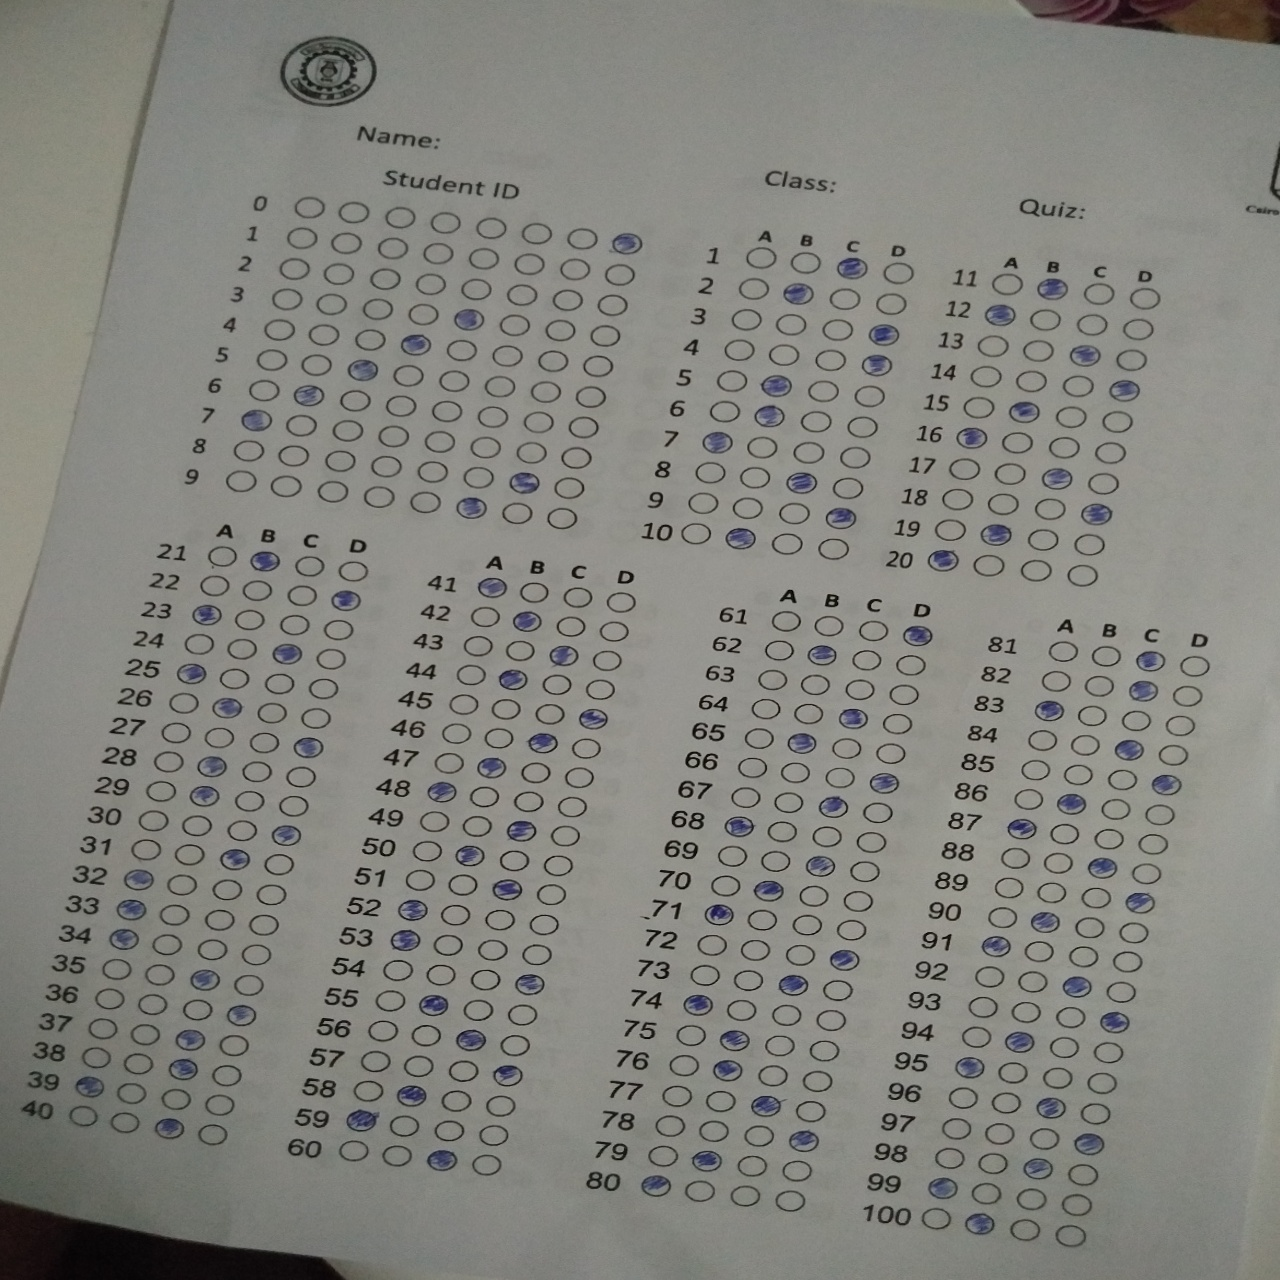not-c: (767, 1002, 808, 1028), (299, 350, 336, 377), (565, 413, 602, 440), (223, 467, 260, 493), (311, 644, 348, 670), (97, 956, 135, 983), (157, 1085, 195, 1112), (400, 1051, 437, 1078), (516, 760, 553, 787), (459, 813, 497, 840), (856, 617, 893, 644), (715, 842, 753, 869), (813, 1005, 851, 1032), (665, 1051, 702, 1078), (1141, 799, 1178, 826), (1024, 726, 1062, 753), (1089, 440, 1126, 467), (496, 312, 535, 338), (216, 666, 254, 692), (284, 583, 322, 608), (754, 1061, 792, 1087), (1126, 859, 1165, 885), (1122, 316, 1160, 342), (692, 459, 730, 485), (511, 248, 547, 275), (374, 234, 410, 261), (551, 474, 587, 501), (430, 930, 467, 956), (444, 692, 481, 719), (465, 602, 502, 629), (604, 588, 640, 615), (1067, 731, 1103, 758), (1017, 556, 1054, 583), (1064, 561, 1101, 588), (792, 440, 829, 467), (805, 377, 842, 404), (736, 275, 772, 302), (290, 193, 327, 219), (334, 199, 372, 225), (425, 209, 463, 234), (601, 261, 639, 287), (554, 254, 592, 280), (312, 292, 349, 318), (585, 322, 622, 348), (252, 346, 290, 372), (481, 373, 518, 399), (572, 382, 610, 408), (420, 427, 457, 452), (468, 433, 505, 458), (275, 441, 313, 467), (407, 489, 444, 515), (205, 542, 243, 567), (239, 577, 277, 602), (195, 573, 232, 599), (252, 700, 290, 726), (135, 806, 172, 832), (238, 756, 275, 782), (200, 907, 238, 933), (209, 876, 246, 901), (163, 870, 200, 896), (244, 911, 281, 937), (231, 972, 268, 998), (83, 1015, 121, 1041), (195, 1122, 232, 1148), (377, 1142, 415, 1167), (469, 1152, 506, 1178), (483, 1091, 520, 1117), (459, 996, 497, 1022), (377, 956, 415, 982), (525, 910, 563, 935), (402, 867, 440, 893), (560, 765, 598, 791), (483, 726, 520, 751), (488, 696, 525, 722), (588, 648, 626, 674), (770, 608, 808, 634), (840, 674, 878, 700), (753, 667, 790, 693), (760, 636, 797, 662), (822, 765, 859, 791), (829, 735, 866, 761), (756, 849, 794, 874), (796, 883, 833, 908), (707, 874, 744, 900), (761, 1033, 798, 1058), (740, 1123, 777, 1149), (694, 1117, 731, 1143), (651, 1114, 688, 1139), (680, 1179, 717, 1205), (966, 1180, 1003, 1206), (938, 1116, 975, 1142), (1039, 1064, 1076, 1090), (1103, 978, 1141, 1003), (972, 962, 1009, 988), (985, 904, 1022, 930), (1058, 761, 1096, 787), (968, 552, 1006, 578), (1033, 496, 1070, 522), (1051, 404, 1089, 430), (944, 455, 981, 481), (967, 365, 1005, 390), (1082, 281, 1119, 307), (1020, 338, 1057, 363), (685, 490, 722, 516), (837, 444, 874, 470), (713, 368, 750, 394), (851, 384, 888, 410), (113, 1081, 150, 1107), (414, 458, 452, 483), (367, 452, 406, 477), (332, 559, 370, 584), (331, 558, 369, 583), (476, 1123, 515, 1148), (384, 1114, 423, 1138), (731, 1153, 770, 1178), (1046, 1035, 1084, 1060), (787, 251, 825, 275), (741, 245, 779, 270), (181, 631, 216, 658), (880, 712, 915, 738), (819, 316, 855, 343), (471, 216, 508, 241), (465, 245, 502, 271), (418, 239, 455, 265), (275, 256, 312, 281), (268, 285, 305, 311), (361, 294, 397, 320), (540, 316, 577, 342), (260, 316, 297, 342), (389, 362, 425, 388), (435, 368, 471, 394), (384, 392, 421, 417), (250, 377, 286, 403), (281, 411, 318, 437), (329, 416, 366, 442), (324, 447, 360, 472), (267, 472, 304, 498), (314, 478, 350, 504), (362, 482, 399, 508), (277, 610, 313, 635), (259, 851, 295, 877), (127, 835, 163, 860), (231, 787, 267, 812), (224, 817, 260, 843), (150, 749, 186, 775), (299, 704, 335, 730), (166, 689, 203, 715), (91, 986, 128, 1012), (125, 1020, 162, 1046), (215, 1032, 251, 1057), (105, 1108, 142, 1133), (335, 1136, 372, 1162), (438, 1088, 475, 1114), (358, 1048, 394, 1074), (372, 987, 408, 1013), (520, 940, 557, 966), (476, 937, 512, 962), (532, 880, 568, 906), (444, 871, 481, 897), (546, 824, 583, 850), (430, 750, 467, 776), (416, 809, 452, 835), (560, 584, 597, 610), (502, 638, 538, 663), (532, 701, 568, 727), (539, 672, 576, 697), (811, 613, 847, 639), (733, 754, 769, 779), (727, 784, 763, 810), (777, 761, 813, 787), (872, 740, 908, 765), (887, 681, 924, 707), (809, 824, 845, 850), (694, 932, 730, 958), (798, 1067, 835, 1092), (1054, 1223, 1090, 1248), (1013, 1186, 1049, 1212), (982, 1121, 1019, 1146), (1026, 1126, 1062, 1152), (1084, 1071, 1121, 1097), (958, 1024, 994, 1050), (1053, 1005, 1089, 1030), (1015, 967, 1051, 993), (1021, 938, 1057, 964), (1064, 942, 1101, 968), (1115, 919, 1151, 945), (1073, 914, 1109, 940), (1042, 849, 1078, 874), (996, 845, 1033, 871), (1044, 821, 1081, 846), (1099, 796, 1136, 822), (1012, 787, 1048, 812), (1153, 741, 1190, 767), (961, 395, 998, 421), (1098, 408, 1135, 434), (1114, 347, 1150, 373), (1126, 287, 1163, 313), (990, 271, 1027, 297), (975, 333, 1012, 359), (678, 522, 714, 547), (777, 501, 813, 526), (707, 399, 743, 424), (723, 339, 760, 365), (772, 313, 809, 339), (765, 343, 802, 369), (880, 260, 917, 286), (561, 226, 599, 251), (503, 282, 540, 307), (489, 343, 526, 368), (304, 321, 341, 346), (519, 408, 557, 433), (474, 402, 511, 427), (557, 444, 594, 469), (459, 463, 497, 488), (544, 505, 581, 530), (304, 673, 341, 697), (258, 669, 295, 694), (291, 552, 328, 577), (223, 636, 260, 661), (141, 777, 178, 802), (200, 724, 238, 749), (177, 811, 215, 836), (157, 721, 195, 745), (244, 730, 281, 755), (252, 881, 290, 906), (157, 900, 195, 925), (148, 933, 185, 958), (178, 998, 216, 1022), (200, 1092, 238, 1117), (64, 1104, 102, 1129), (120, 1050, 157, 1075), (430, 1117, 468, 1142), (349, 1077, 387, 1102), (363, 1016, 401, 1041), (496, 1032, 533, 1056), (504, 1003, 542, 1028), (421, 961, 458, 986), (467, 966, 504, 990), (483, 906, 520, 931), (497, 847, 535, 872), (510, 790, 547, 815), (595, 619, 633, 644), (850, 647, 887, 672), (840, 888, 878, 913), (789, 912, 826, 937), (835, 917, 872, 941), (687, 964, 724, 988), (673, 1023, 710, 1048), (779, 1158, 817, 1183), (726, 1185, 763, 1210), (1007, 1218, 1044, 1242), (974, 1151, 1012, 1176), (931, 1146, 968, 1171), (1078, 1102, 1116, 1126), (987, 1091, 1024, 1116), (945, 1085, 982, 1110), (1032, 879, 1069, 904), (1088, 828, 1125, 852), (1024, 527, 1062, 552), (1084, 471, 1122, 496), (999, 429, 1036, 454), (1013, 370, 1050, 395), (1058, 374, 1096, 399), (1024, 308, 1062, 333), (1073, 313, 1110, 338), (831, 476, 869, 501), (734, 465, 771, 490), (797, 409, 835, 434), (728, 307, 765, 332), (329, 231, 365, 257), (459, 275, 495, 301), (527, 377, 563, 403), (376, 422, 411, 448), (282, 763, 318, 789), (799, 670, 835, 696), (860, 801, 896, 826), (855, 829, 890, 855), (737, 937, 772, 962), (726, 998, 761, 1023), (1065, 1160, 1101, 1186), (996, 1061, 1032, 1087), (1040, 667, 1075, 693), (731, 495, 767, 520), (744, 435, 779, 461), (517, 220, 553, 245), (284, 224, 320, 248), (549, 287, 585, 312), (413, 272, 449, 297), (365, 266, 401, 291), (404, 302, 441, 327), (580, 353, 617, 377), (536, 347, 572, 372), (442, 336, 478, 361), (430, 399, 467, 423), (338, 388, 374, 413), (515, 440, 551, 464), (231, 438, 267, 463), (232, 607, 268, 632), (171, 840, 207, 865), (277, 792, 313, 817), (195, 938, 231, 962), (142, 962, 178, 987), (135, 993, 171, 1017), (207, 1062, 244, 1087), (77, 1044, 114, 1069), (447, 1058, 483, 1083), (406, 1021, 442, 1046), (437, 901, 474, 926), (409, 837, 445, 862), (567, 737, 604, 762), (452, 662, 489, 687), (459, 633, 496, 658), (518, 579, 554, 604), (554, 614, 591, 639), (583, 678, 619, 702), (750, 697, 787, 722), (741, 726, 777, 750), (892, 653, 928, 678), (791, 701, 828, 726), (765, 818, 802, 843), (849, 859, 885, 884), (783, 941, 819, 966), (731, 966, 768, 990), (819, 978, 856, 1002), (805, 1036, 842, 1061), (658, 1082, 694, 1107), (702, 1088, 738, 1112), (794, 1099, 830, 1124), (645, 1143, 681, 1167), (1058, 1193, 1095, 1218), (1008, 1000, 1044, 1024), (1089, 1041, 1125, 1065), (1110, 949, 1146, 974), (992, 874, 1028, 899), (1077, 884, 1114, 908), (1017, 757, 1054, 782), (1102, 765, 1138, 790), (1074, 702, 1110, 727), (1116, 708, 1152, 733), (1160, 713, 1197, 737), (816, 537, 852, 561), (940, 486, 976, 511), (986, 490, 1022, 515), (990, 462, 1027, 486), (1046, 435, 1082, 459), (770, 532, 806, 557), (812, 348, 849, 373), (872, 292, 908, 316), (826, 287, 863, 312), (381, 205, 418, 229), (350, 327, 388, 350), (545, 506, 583, 530), (1133, 831, 1171, 855), (930, 518, 967, 542), (1046, 638, 1080, 663), (1176, 652, 1210, 678), (501, 499, 536, 524), (322, 615, 358, 640), (540, 852, 576, 877), (554, 796, 590, 821), (467, 785, 502, 810), (744, 907, 779, 932), (772, 1189, 808, 1213), (1080, 674, 1115, 699), (1175, 652, 1210, 676), (1071, 530, 1107, 554), (593, 294, 629, 318), (319, 263, 355, 286), (239, 942, 275, 966), (438, 722, 475, 745), (768, 791, 804, 815), (920, 1206, 956, 1230), (964, 994, 1000, 1017), (845, 416, 881, 440), (1170, 683, 1204, 708), (1088, 644, 1122, 668)
taken-c: (1028, 910, 1064, 935), (926, 549, 962, 574), (1006, 400, 1042, 425), (1036, 277, 1073, 302), (757, 373, 794, 399), (503, 819, 540, 844), (782, 730, 819, 755), (816, 796, 853, 821), (700, 903, 737, 927), (343, 358, 379, 383), (195, 754, 230, 779), (217, 847, 252, 873), (490, 877, 525, 903), (545, 644, 580, 669), (899, 622, 934, 648), (1126, 678, 1162, 703), (682, 992, 717, 1017), (710, 1058, 745, 1084), (785, 1129, 821, 1155), (925, 1176, 960, 1201), (1085, 855, 1121, 880), (1078, 502, 1114, 527), (508, 470, 544, 495), (452, 496, 489, 520), (268, 641, 305, 666), (209, 696, 245, 721), (268, 823, 305, 847), (121, 869, 157, 893), (113, 897, 149, 921), (393, 1084, 429, 1109), (387, 928, 423, 953), (394, 898, 430, 922), (474, 576, 510, 600), (826, 948, 863, 973), (748, 1092, 784, 1117), (689, 1149, 726, 1173), (638, 1173, 674, 1198), (1096, 1010, 1132, 1035), (1111, 737, 1148, 762), (954, 425, 990, 450), (859, 353, 896, 377), (823, 506, 859, 531), (490, 1064, 527, 1088), (451, 307, 486, 332), (397, 333, 433, 358), (237, 408, 272, 433), (247, 549, 282, 573), (328, 588, 363, 613), (188, 604, 223, 628), (290, 735, 325, 760), (172, 1028, 207, 1053), (72, 1075, 107, 1099), (417, 993, 452, 1017), (512, 973, 547, 998), (451, 844, 486, 869), (474, 755, 509, 779), (576, 707, 611, 731), (510, 610, 545, 634), (833, 706, 869, 730), (1032, 699, 1067, 723), (865, 771, 900, 796), (721, 815, 756, 839), (751, 878, 787, 903), (777, 972, 812, 996), (1073, 1132, 1108, 1157), (1033, 1096, 1068, 1121), (952, 1056, 987, 1081), (1123, 891, 1158, 915), (1055, 791, 1090, 816), (1149, 772, 1184, 797), (978, 524, 1013, 549), (1039, 467, 1074, 491), (1107, 379, 1142, 403), (1067, 343, 1102, 368), (982, 302, 1017, 327), (835, 256, 870, 280), (866, 324, 901, 348), (699, 430, 734, 455), (105, 928, 142, 952), (224, 1005, 260, 1028), (525, 731, 561, 755), (803, 644, 839, 667), (802, 853, 838, 877), (960, 1212, 996, 1235), (1002, 1032, 1039, 1055), (1005, 817, 1041, 840), (721, 526, 757, 550), (610, 231, 644, 256), (188, 968, 222, 993), (343, 1109, 377, 1133), (425, 1148, 459, 1172), (425, 779, 459, 804), (291, 384, 326, 408), (173, 662, 209, 686), (166, 1057, 202, 1081), (152, 1117, 188, 1141), (496, 668, 531, 692), (717, 1029, 753, 1053), (1020, 1158, 1055, 1182), (1060, 975, 1095, 999), (980, 935, 1015, 959), (779, 282, 815, 306), (751, 404, 787, 428), (783, 471, 818, 495), (188, 783, 222, 806), (452, 1028, 486, 1051), (1133, 651, 1167, 674)
